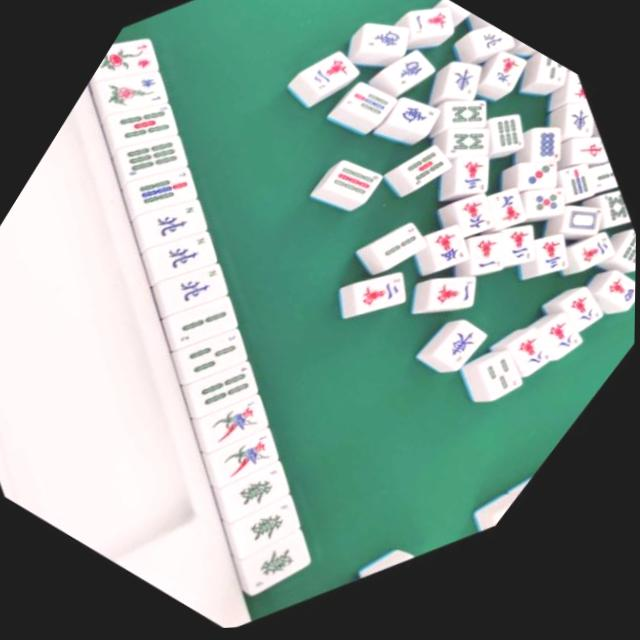bf1: (94, 54, 181, 144)
bs1: (88, 24, 170, 110)
hdg: (244, 528, 332, 618), (237, 490, 320, 577), (227, 456, 310, 541)
hwn: (156, 248, 247, 342), (146, 216, 233, 307), (139, 185, 223, 272)
sb1: (215, 420, 301, 508), (204, 387, 287, 472)
sb2: (166, 283, 257, 377)
sb3: (178, 317, 266, 409)
sb4: (194, 352, 275, 435)
sb5: (109, 87, 191, 172)
sb6: (117, 120, 199, 205)
sb7: (127, 152, 210, 239)
